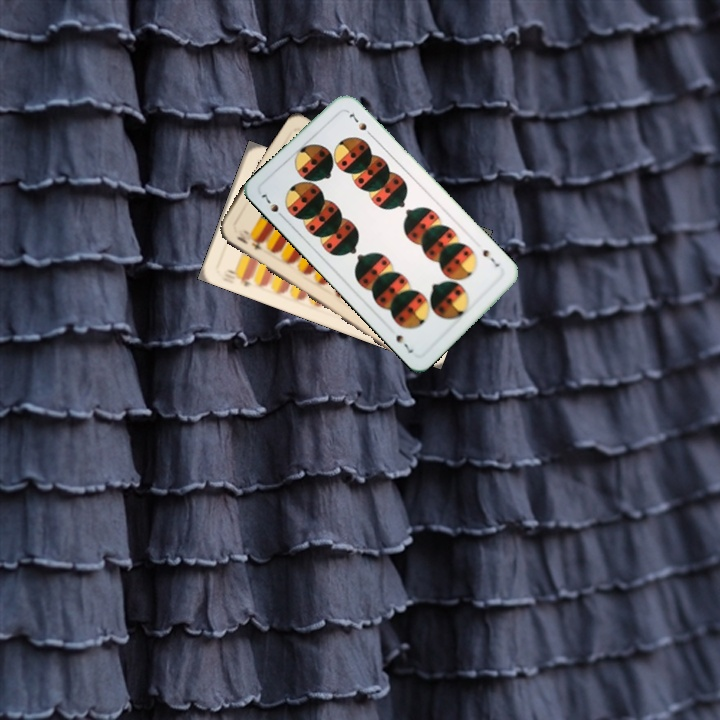E10: (232, 226, 265, 253), (222, 265, 255, 289)
S7: (257, 190, 288, 222), (479, 246, 502, 269)
